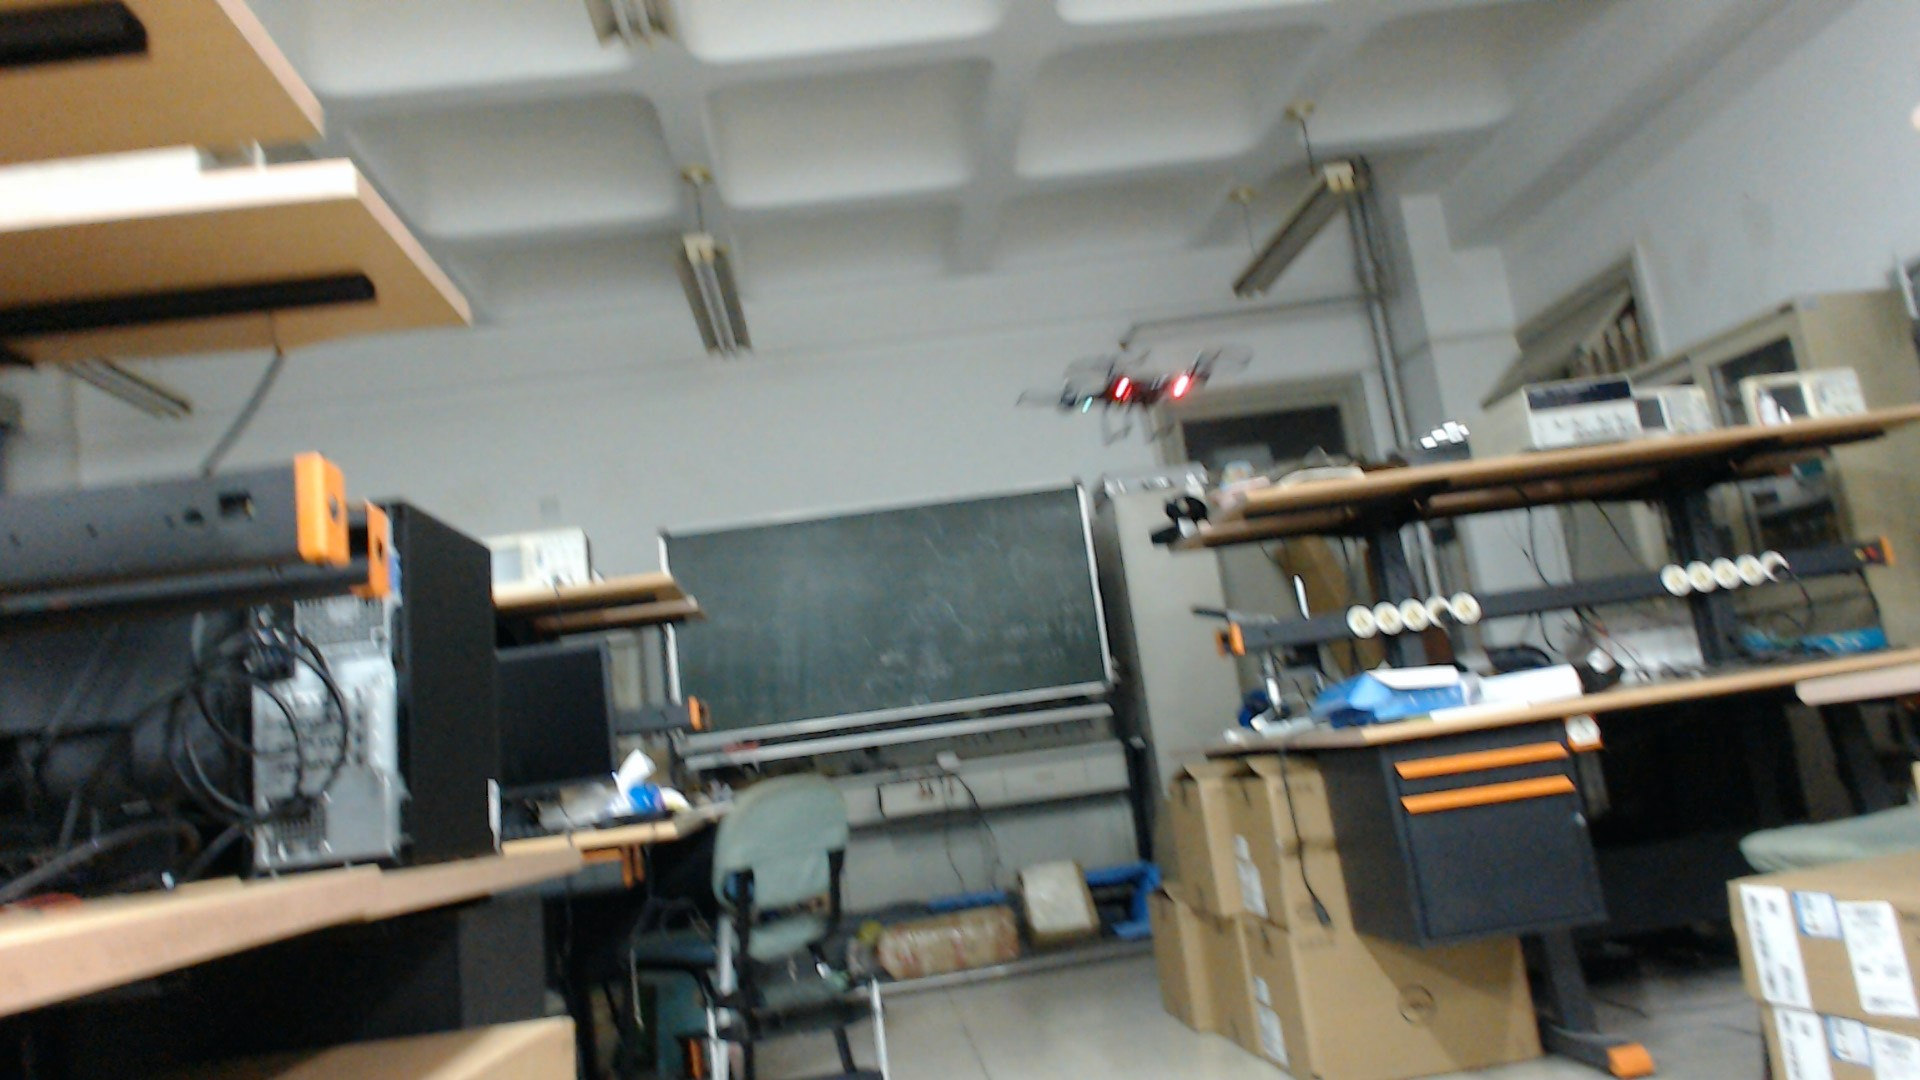test_drone: (1007, 338, 1265, 451)
